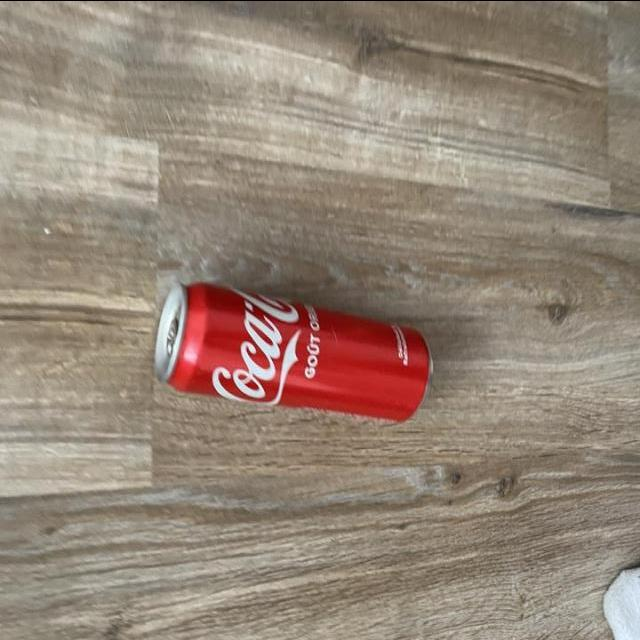can: (144, 280, 436, 428)
